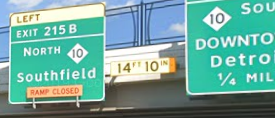0: (149, 58, 159, 73)
1: (142, 59, 149, 74), (116, 61, 122, 75)
4: (121, 61, 132, 74)
overheadsign: (109, 55, 177, 77)
